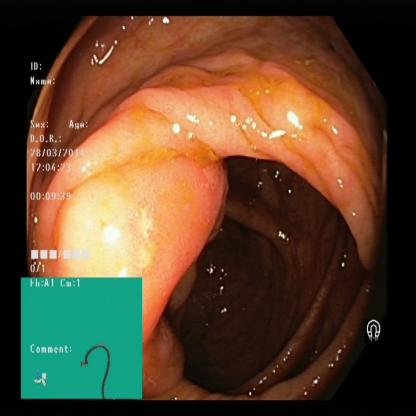Labels: (20, 277, 142, 401), (28, 58, 96, 278), (358, 310, 396, 344)
Polyps: (60, 139, 235, 285)
